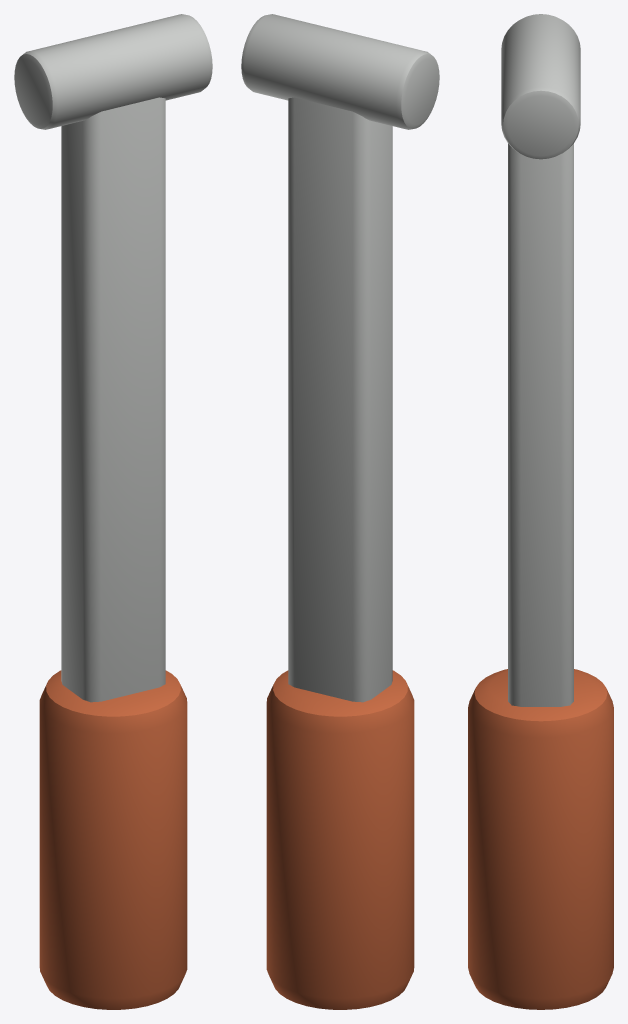
The model's file is screwdriving_unit_clamp_lever.glb.
3 views of the same model, side by side, from view 1: azimuth 30°, elevation 25°; view 2: azimuth 150°, elevation 25°; view 3: azimuth 270°, elevation 25° (orthographic).
Parts seen in each view (by area): view 1: screwdriving_unit_clamp_lever; view 2: screwdriving_unit_clamp_lever; view 3: screwdriving_unit_clamp_lever.
Boxes of the visible parts, x1,y1,x2,y2 form: screwdriving_unit_clamp_lever: [14, 14, 212, 1009]; screwdriving_unit_clamp_lever: [241, 14, 439, 1009]; screwdriving_unit_clamp_lever: [468, 14, 613, 1009].
Bounding box in the file's own units: 0.028 × 0.156 × 0.022.
